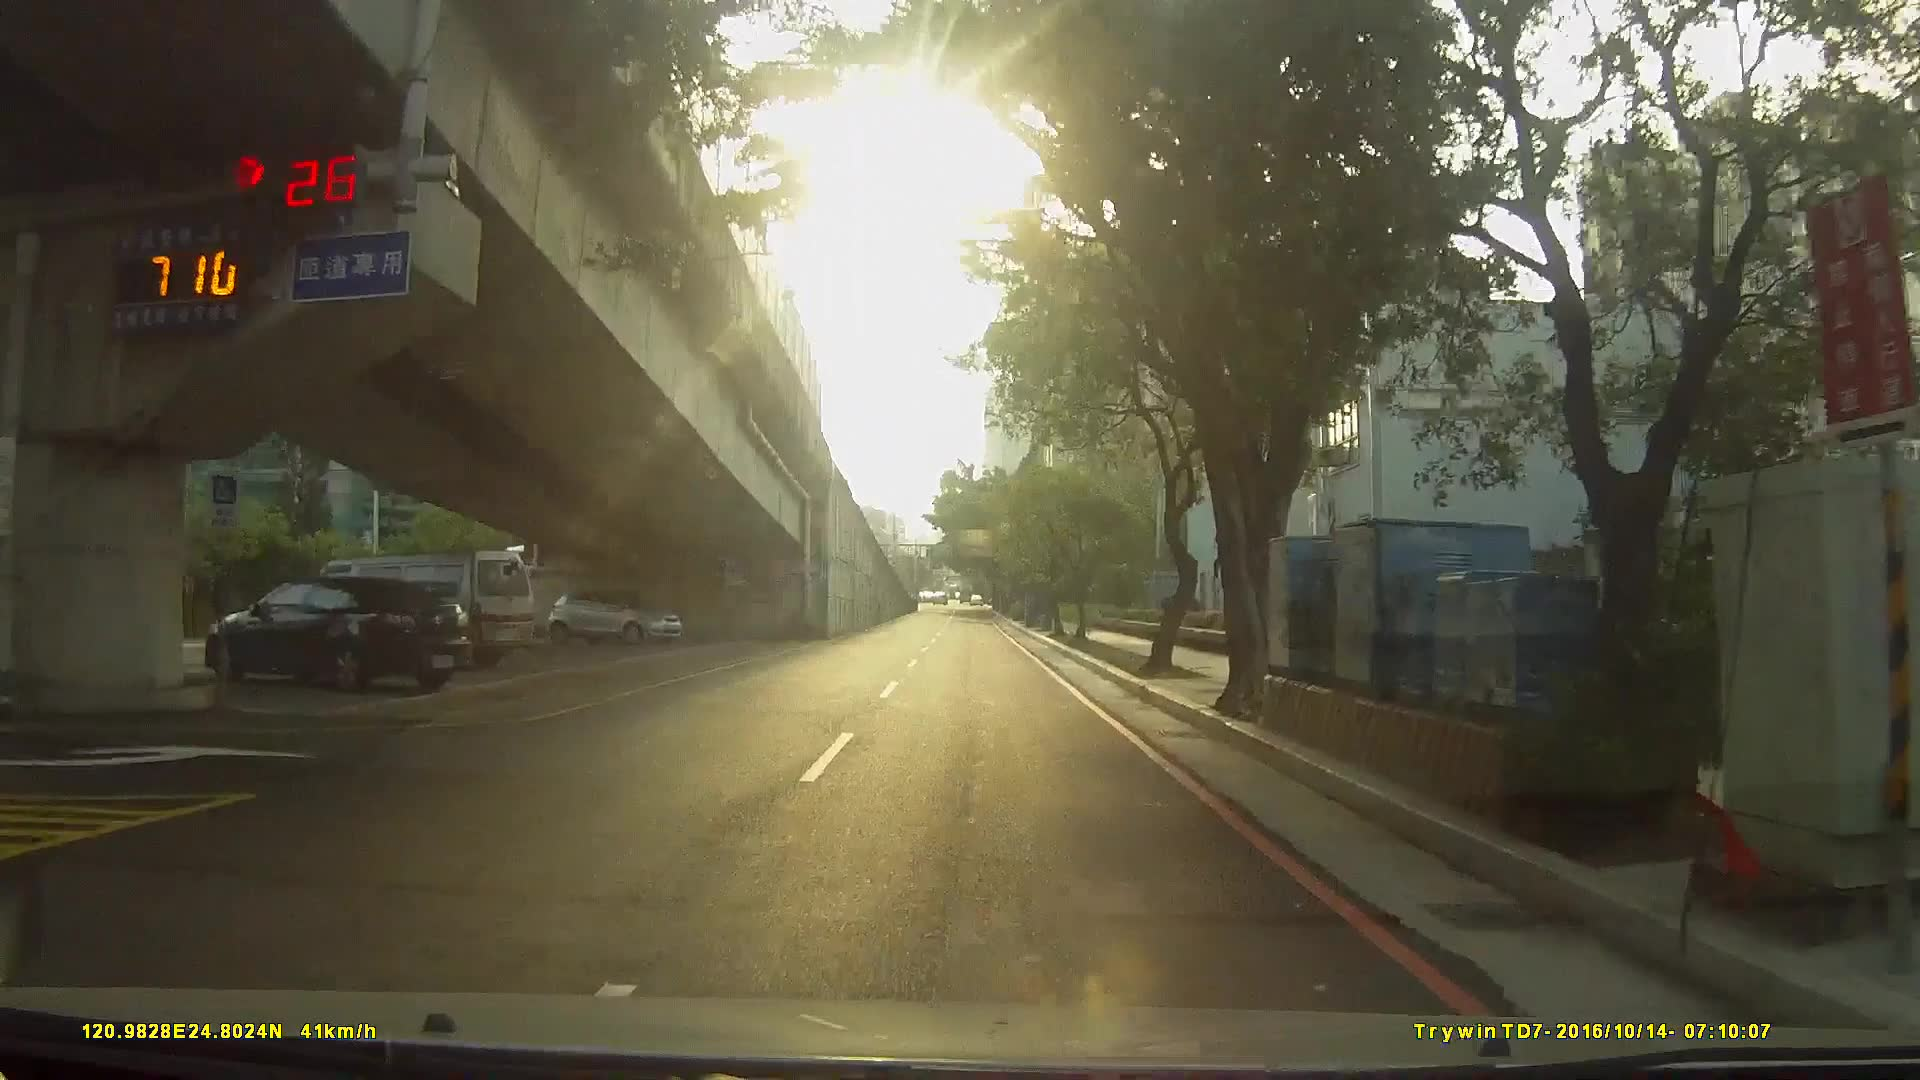vehicle: (190, 574, 485, 702), (280, 551, 541, 688), (541, 585, 680, 647)
